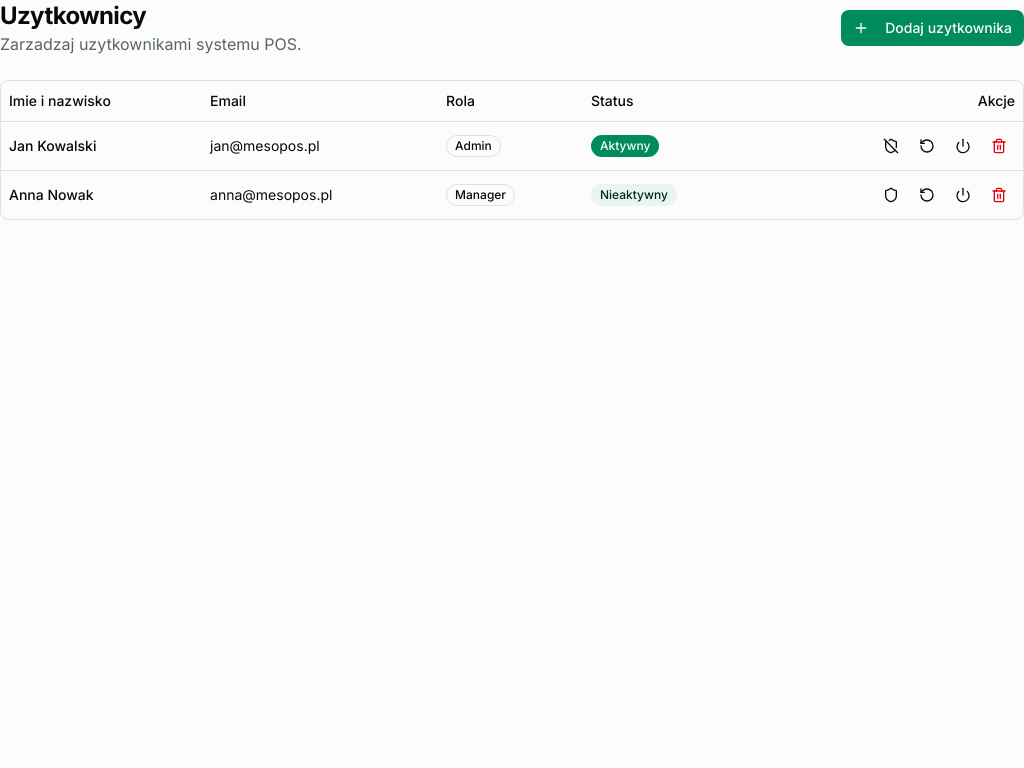
Test: AdminUsersPage › "Dodaj uzytkownika" button opens dialog
Check: the text "Jan Kowalski" is shown, box 1,121 -> 202,170
Click the button "Dodaj uzytkownika".
click(933, 28)  # box 841,10 -> 1023,46
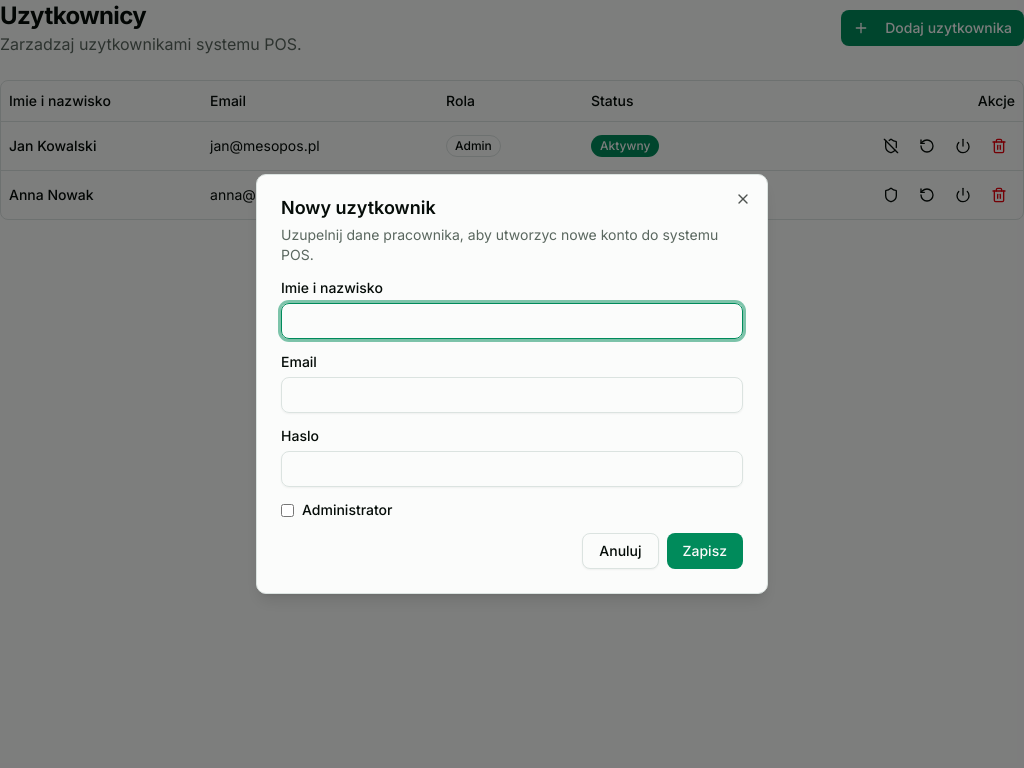
Check: the dialog is shown, box 256,174 -> 768,594
